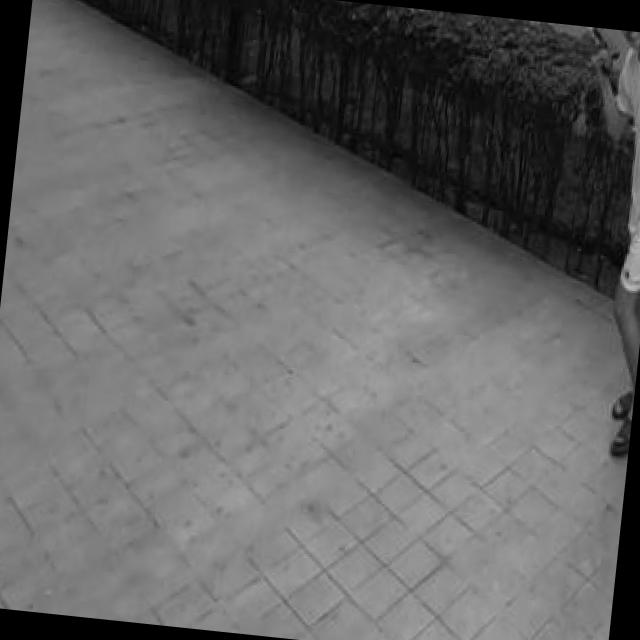Guns: (584, 26, 626, 74)
